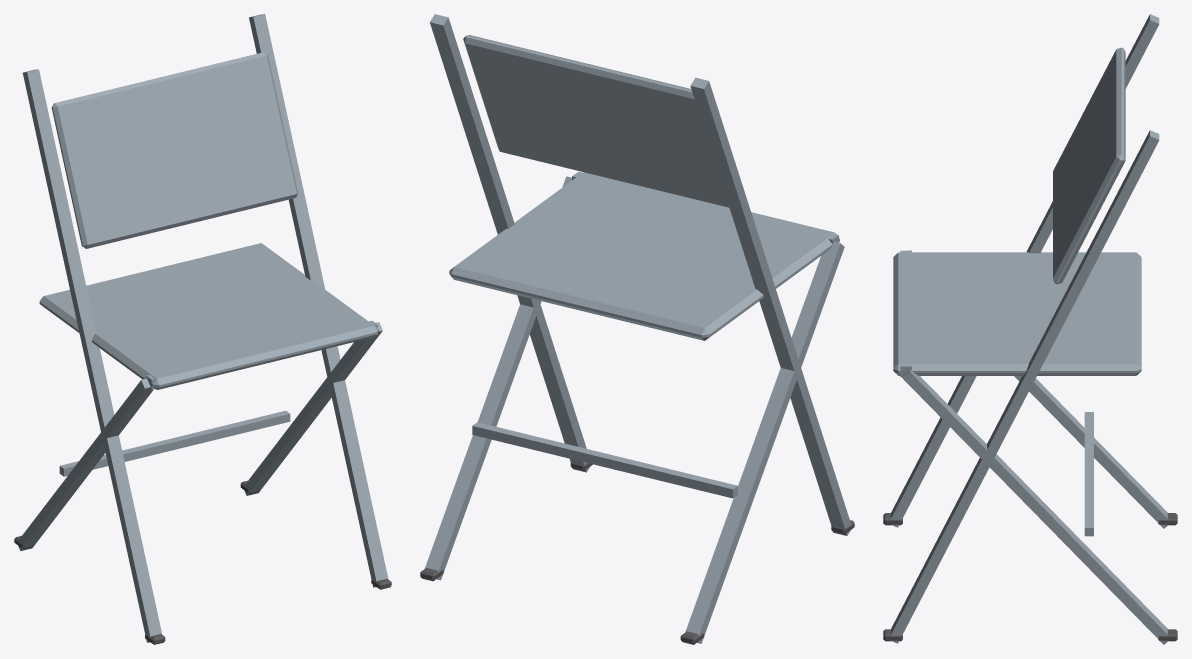
File: cadeira_dobravel.glb
The picture shows the model from 3 angles, left to right: view 1: azimuth 30°, elevation 25°; view 2: azimuth 150°, elevation 25°; view 3: azimuth 270°, elevation 25°; orthographic projection. The views are drawn at different scales.
Parts seen in each view (by area): view 1: cadeira_dobravel_aco_pintado; view 2: cadeira_dobravel_aco_pintado, cadeira_dobravel_borracha; view 3: cadeira_dobravel_aco_pintado, cadeira_dobravel_borracha.
Part boxes in pixels (bbox=[...]): cadeira_dobravel_aco_pintado: bbox=[18, 14, 388, 642]; cadeira_dobravel_aco_pintado: bbox=[424, 14, 851, 643]; cadeira_dobravel_borracha: bbox=[420, 462, 854, 644]; cadeira_dobravel_aco_pintado: bbox=[890, 14, 1168, 644]; cadeira_dobravel_borracha: bbox=[883, 513, 1177, 641].
Bounding box in the file's own units: 0.444 × 0.8587 × 0.45.
